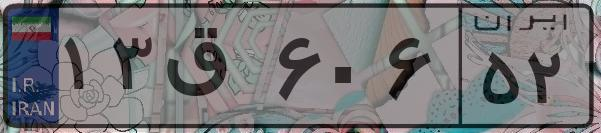0: (330, 28, 385, 110)
1: (57, 26, 110, 100)
2: (525, 38, 570, 115)
3: (110, 28, 158, 98)
5: (475, 38, 525, 113)
6: (270, 28, 330, 110), (385, 28, 445, 110)
ق: (158, 20, 270, 120)
